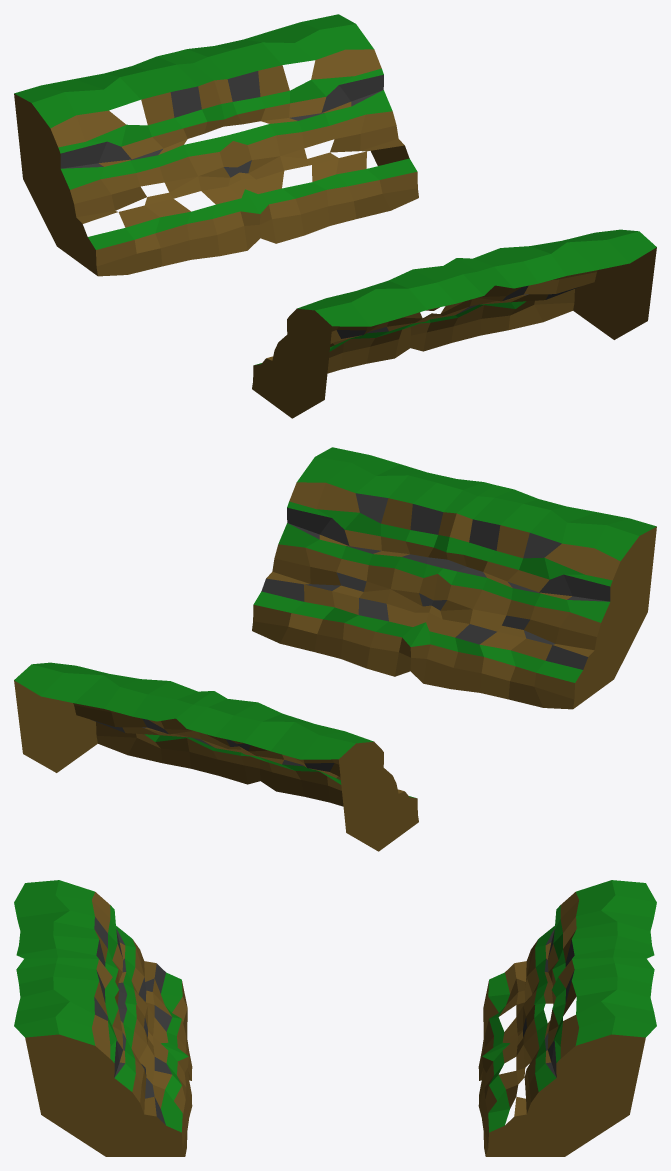
File: side-2.fbx
The picture shows the model from 3 angles, top to bottom: view 1: azimuth 30°, elevation 25°; view 2: azimuth 150°, elevation 25°; view 3: azimuth 270°, elevation 25°; orthographic projection. The views are drawn at different scales.
Parts seen in each view (by area): view 1: greenravine5.003; view 2: greenravine5.003; view 3: greenravine5.003.
Part boxes in pixels (<box>): greenravine5.003: <box>14,14,656,418</box>; greenravine5.003: <box>14,447,656,851</box>; greenravine5.003: <box>14,880,656,1156</box>.
Size of the model in its own units: 1327 by 530 by 2334.
